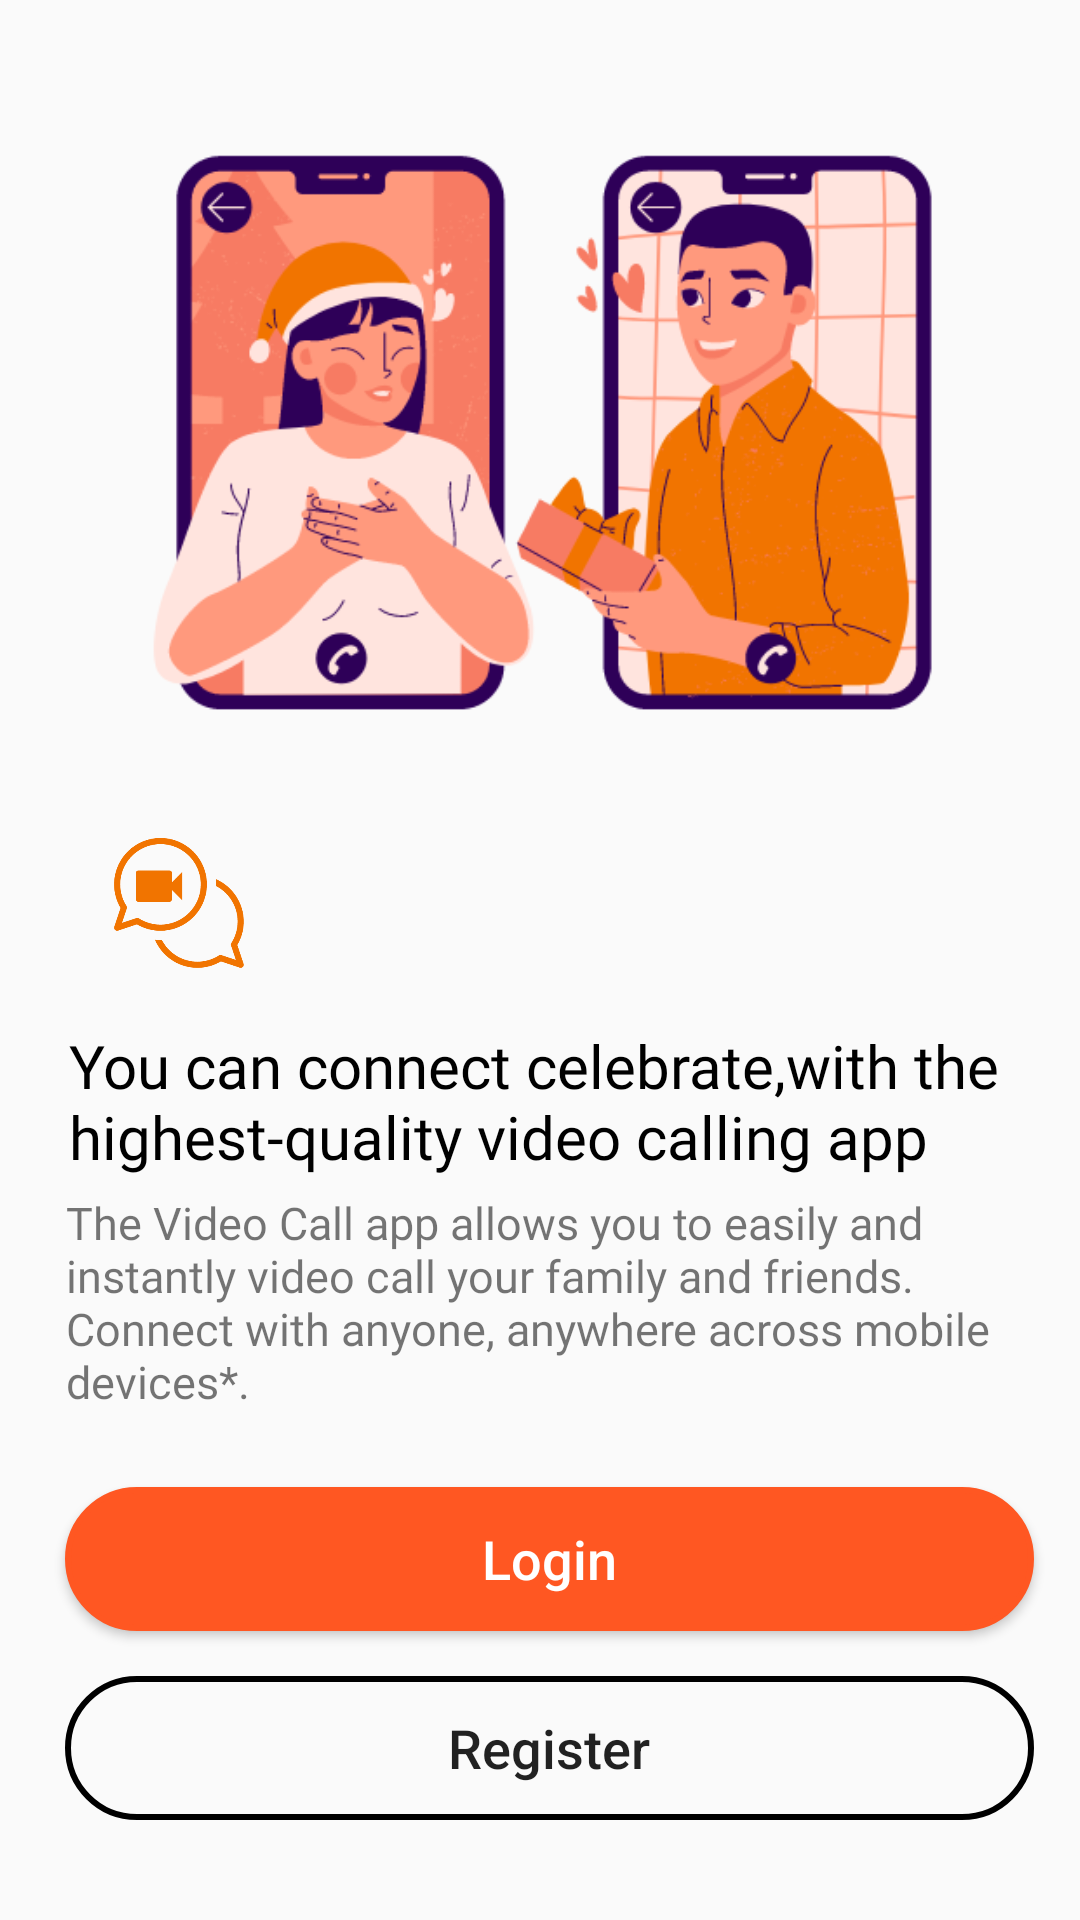

Icon click points for this 1080px×1920px phone screenshot, format (x,y):
iconchat: (179,903)
